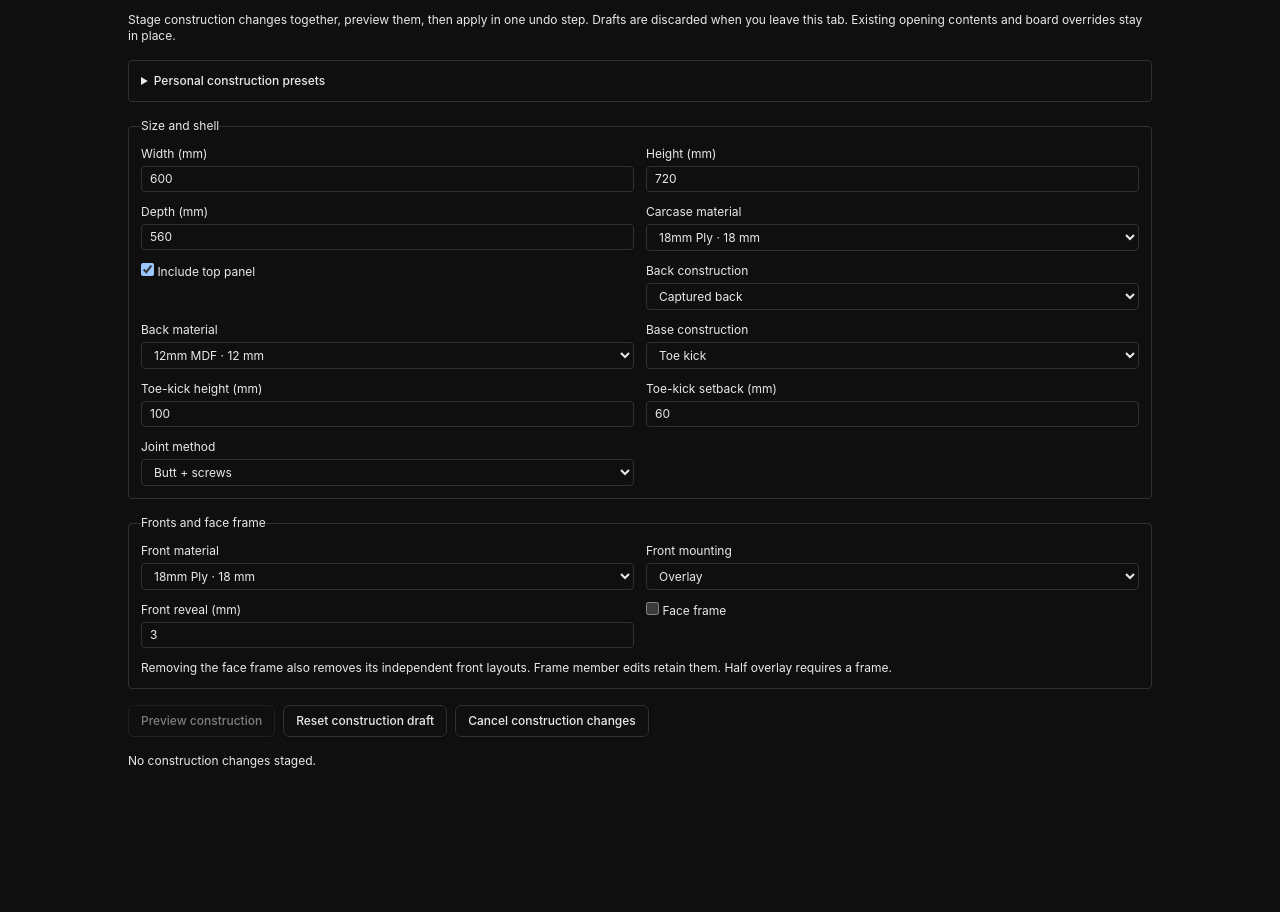
Test case: retains a stale draft for inspection but requires reset after an external model edit
Replace the text in the number field named "Draft Width" with "750" at coordinates (388, 179), box [141,166,634,192]
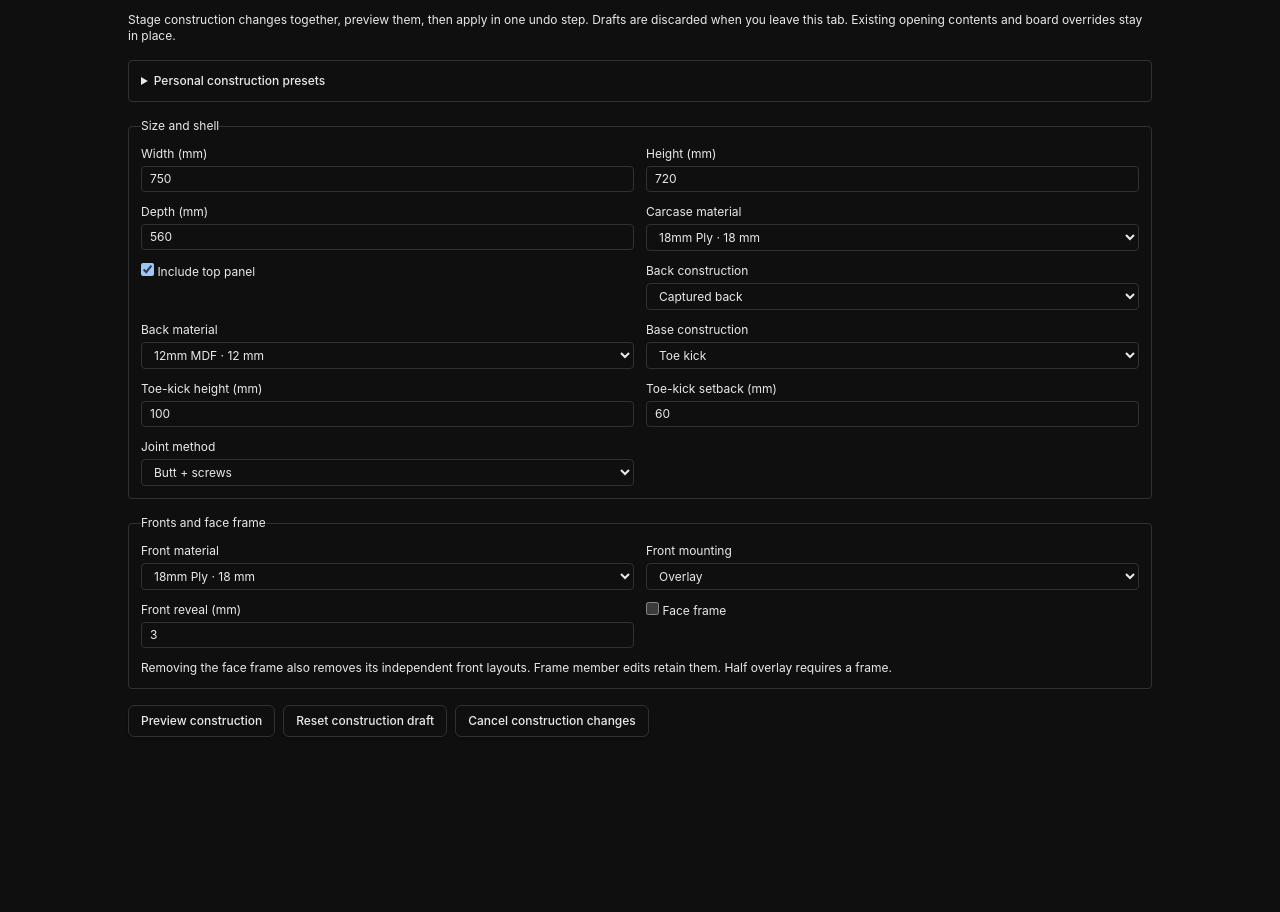
Click the button "Preview construction" at coordinates (202, 721), box [128,705,275,737]
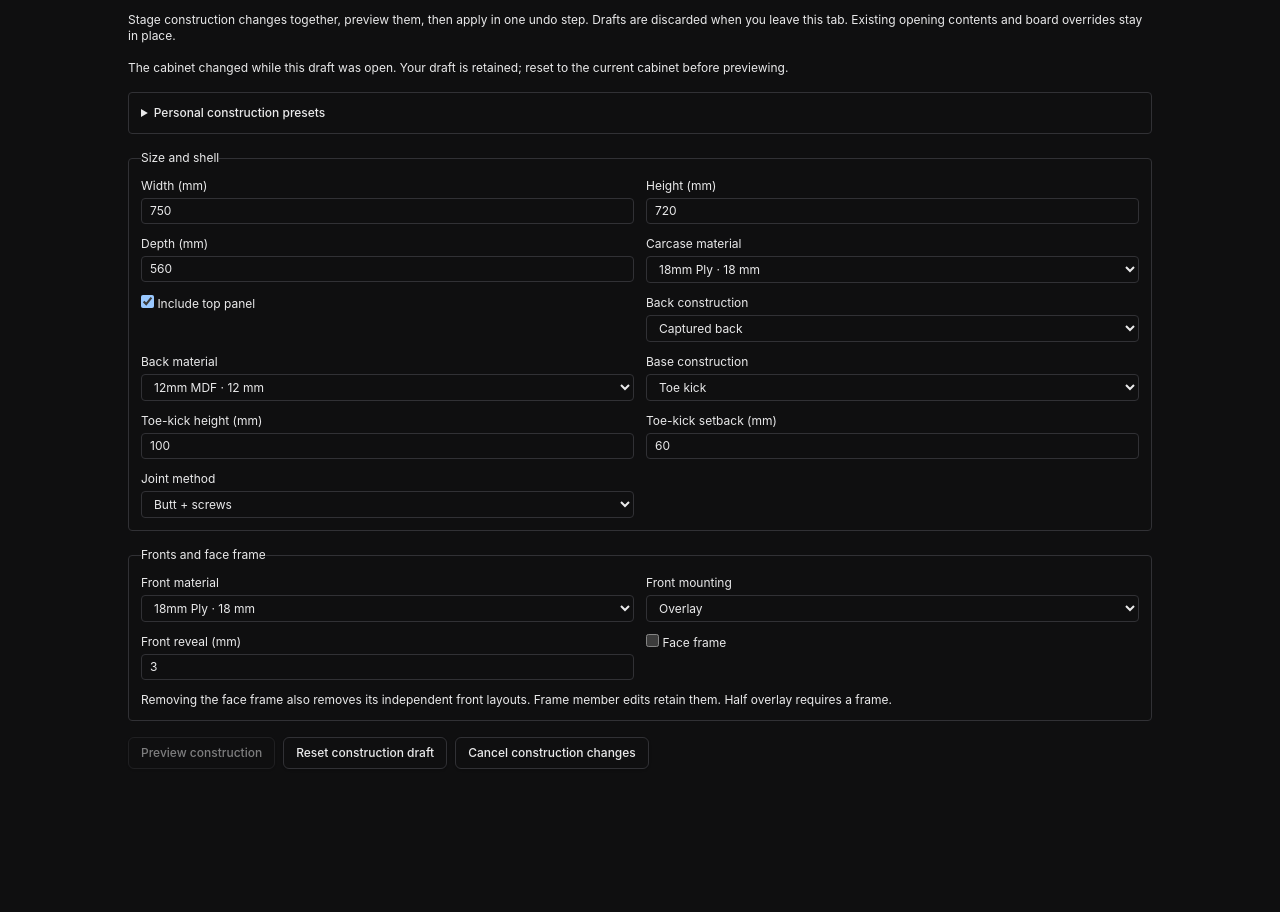
expect the message shows "draft is retained": met, box [128,60,788,75]
expect the button "Preview construction" is disabled: met, box [128,737,275,769]
Click the button "Reset construction draft" at coordinates (365, 753), box [283,737,447,769]
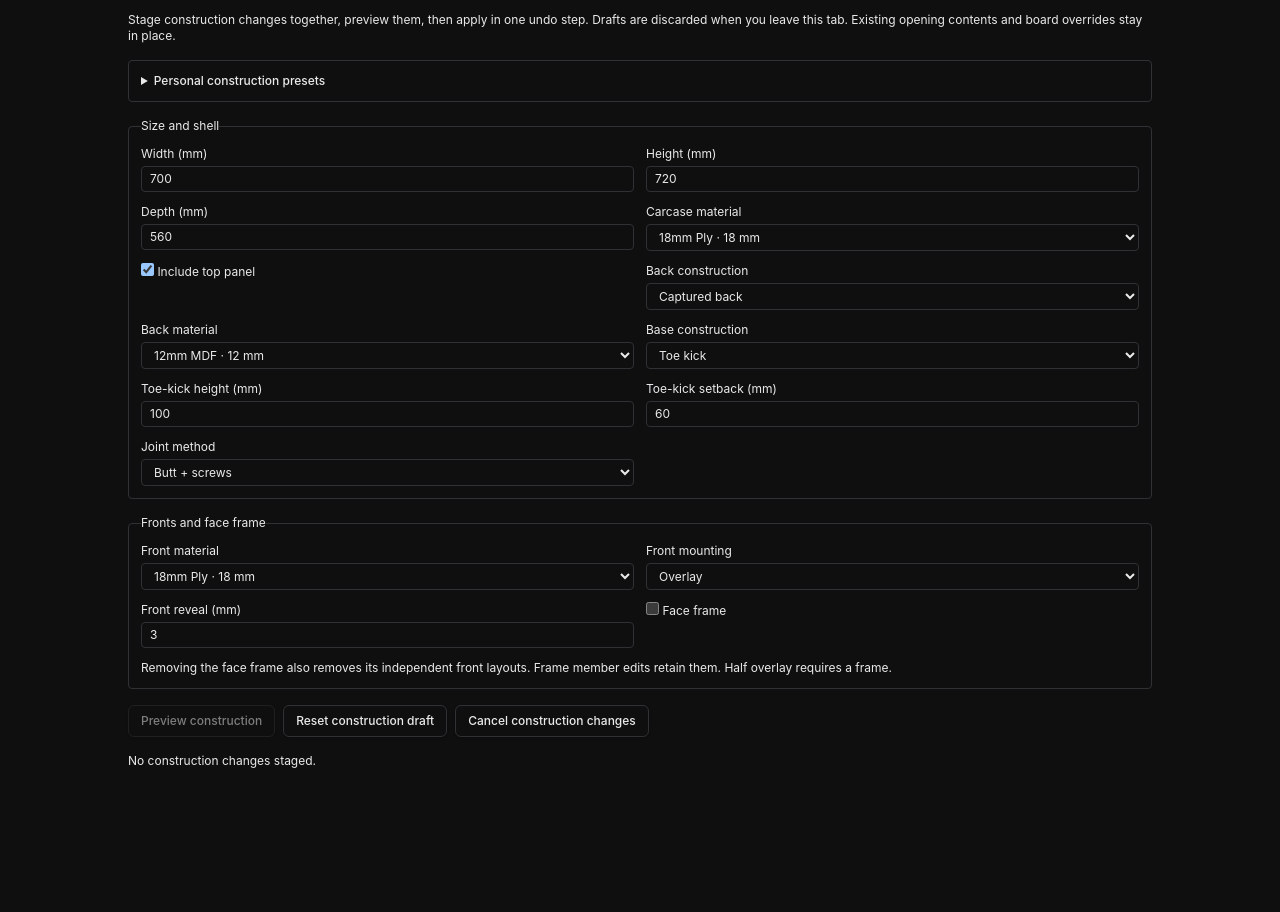
expect the button "Preview construction" is disabled: met, box [128,705,275,737]
expect the number field named "Draft Width" holds "700": met, box [141,166,634,192]
